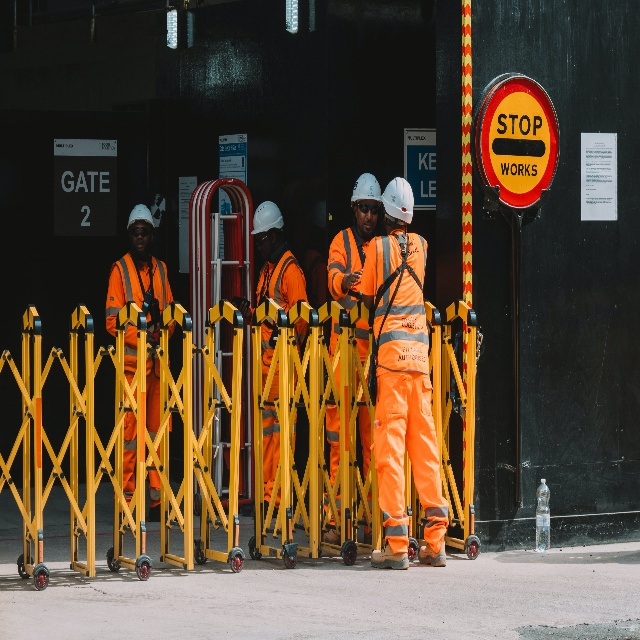Gafas: (355, 201, 378, 214), (130, 226, 152, 238), (254, 234, 271, 246)
Sin_guantes: (235, 295, 251, 319), (345, 268, 363, 287), (146, 330, 156, 344)
